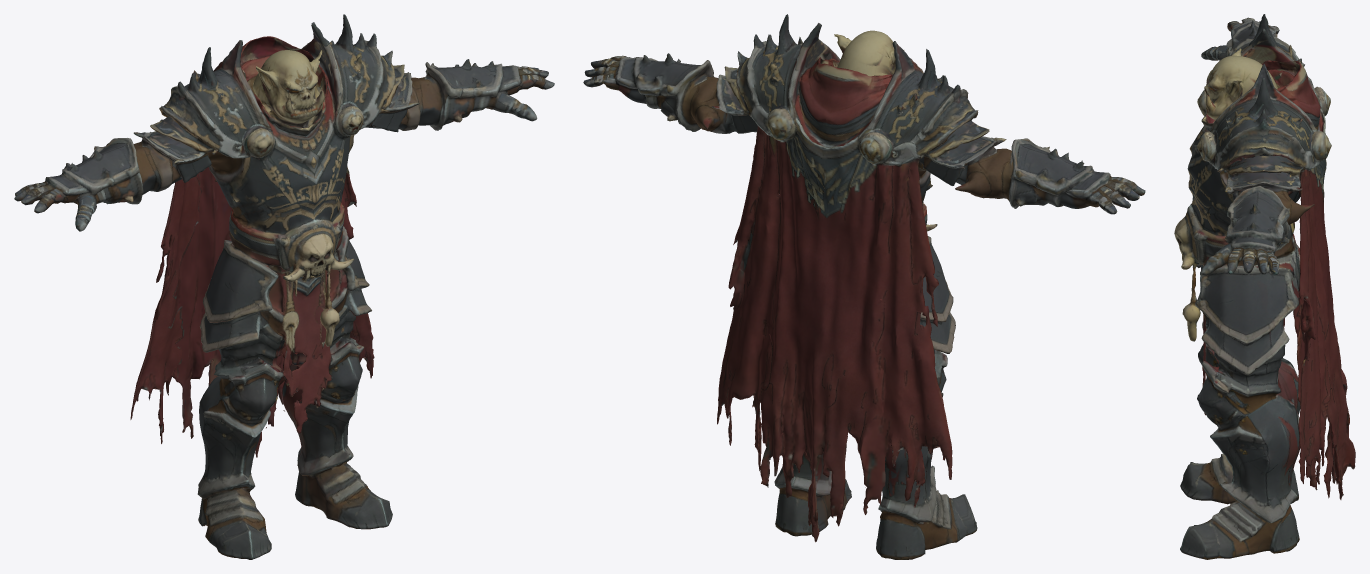
The model's file is OrcWarlord.glb.
3 renders of one model, left to right at view 1: azimuth 30°, elevation 25°; view 2: azimuth 150°, elevation 25°; view 3: azimuth 270°, elevation 25°, orthographic. The views are drawn at different scales.
Visible parts, largest first — view 1: texture_mapping; view 2: texture_mapping; view 3: texture_mapping.
Boxes of the visible parts, <box> form: texture_mapping: <box>14,14,554,559</box>; texture_mapping: <box>583,14,1145,559</box>; texture_mapping: <box>1174,14,1355,559</box>.
Bounding box in the file's own units: 0.9968 × 0.8715 × 0.302.
1 material, 1 textured.
